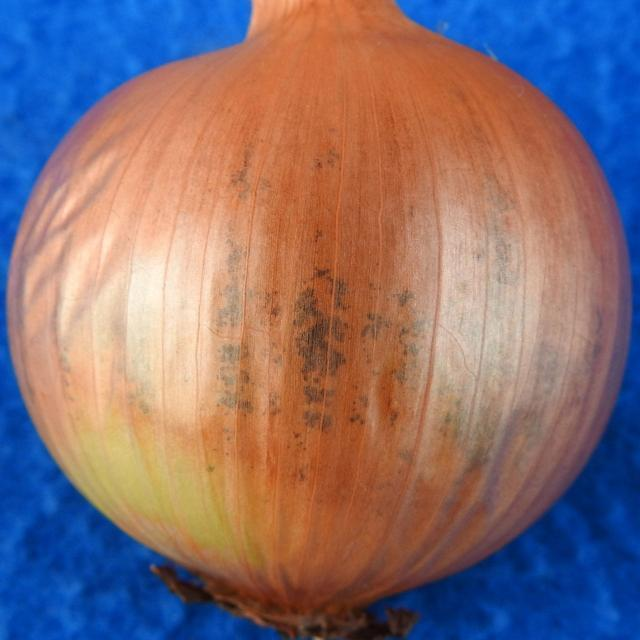Onion: (8, 0, 627, 640)
